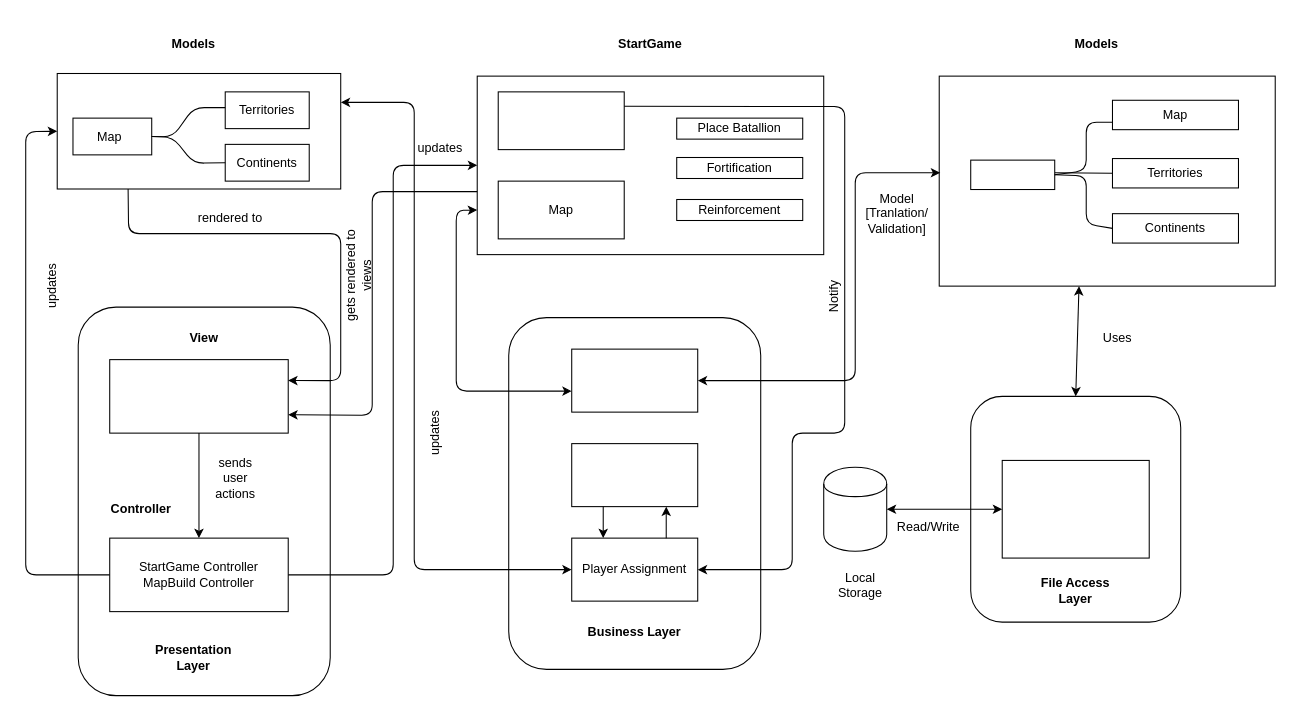
This 1294x714 diagram has some shape labels left out. The centre of each missing label's shape, as x and y in pixels:
"Contestent" belongs at point (560, 120).
"File" belongs at point (1012, 174).
"MapBuild Controller" belongs at point (634, 380).
"StartGame Controller" belongs at point (634, 475).
"StartGame Map.java" belongs at point (198, 396).
"User.Map file" belongs at point (1075, 508).
